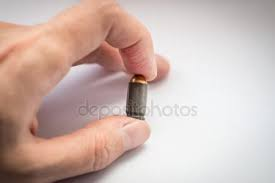hand: (0, 0, 171, 181)
